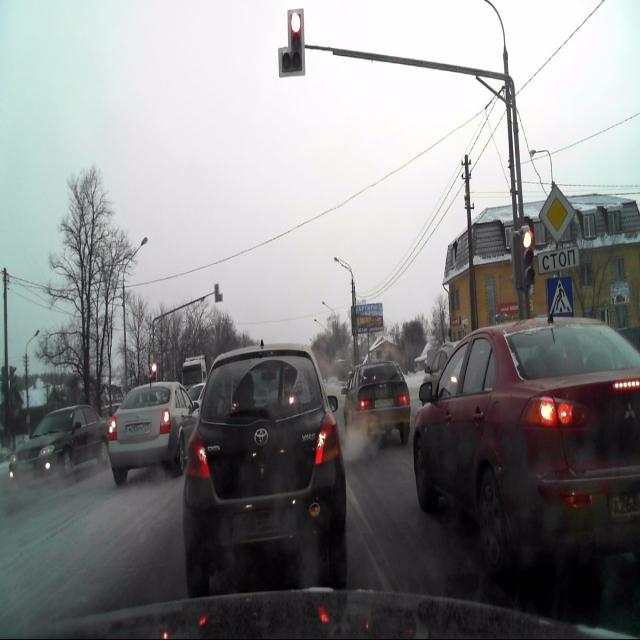road sign: (540, 182, 574, 241), (538, 244, 579, 276), (548, 274, 574, 317)
